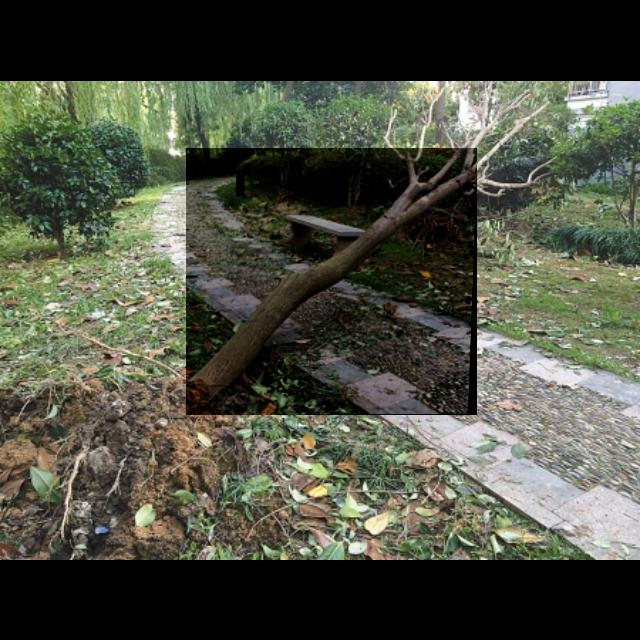Fallen Tree: (186, 148, 478, 416)
